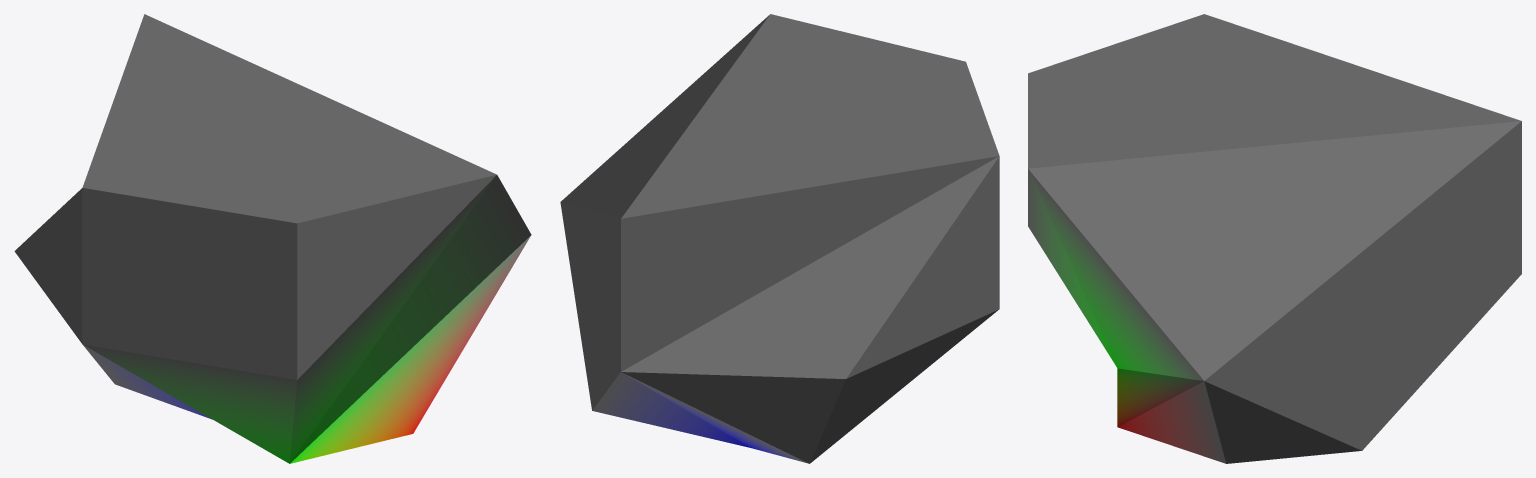
Rendered from gate_re_cleaning_conquest_9_bis.obj.
3 views of the same model, side by side, from view 1: azimuth 30°, elevation 25°; view 2: azimuth 150°, elevation 25°; view 3: azimuth 270°, elevation 25° (orthographic). The views are drawn at different scales.
Bounding box in the file's own units: 1.85 × 1.31 × 1.81.
